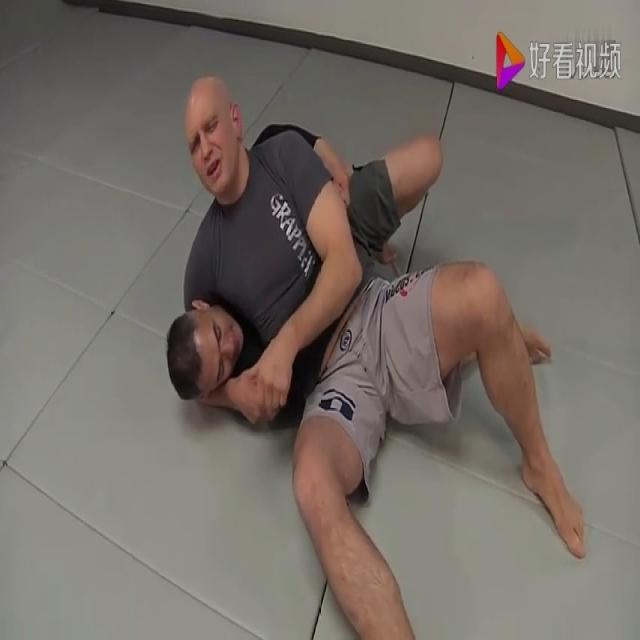fight: (144, 64, 610, 639)
